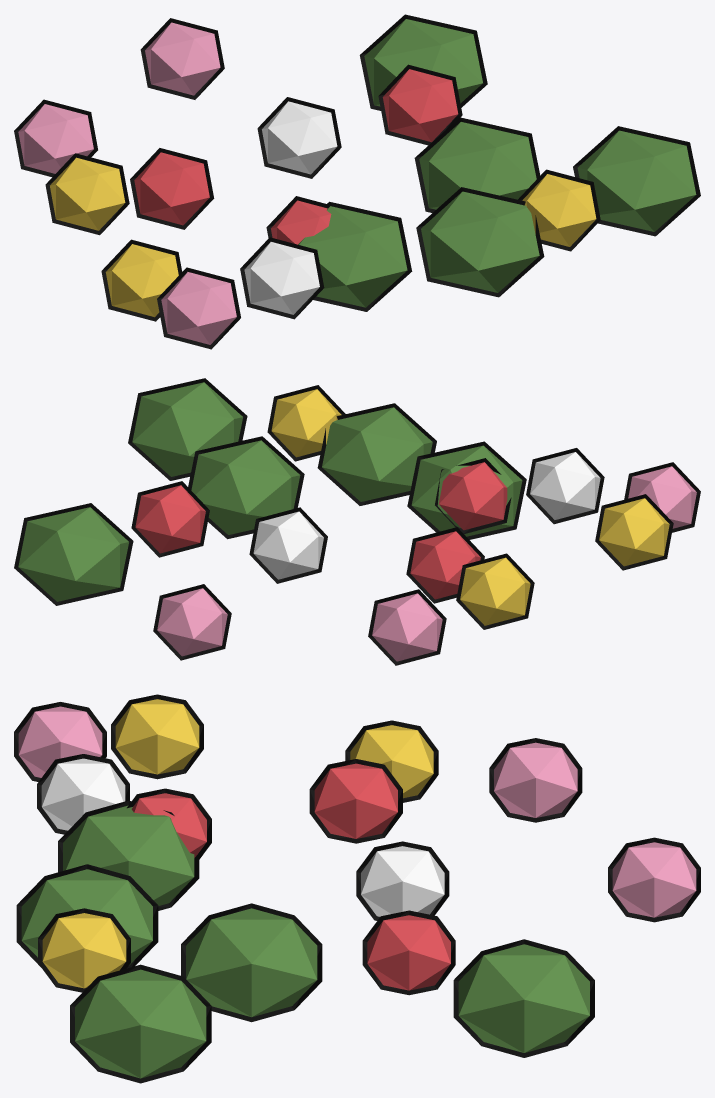
File: Kir_cicek_2.fbx
3 renders of one model, top to bottom at view 1: azimuth 30°, elevation 25°; view 2: azimuth 150°, elevation 25°; view 3: azimuth 270°, elevation 25°, orthographic. The views are drawn at different scales.
Visible parts, largest first — view 1: Kir_cicek_2; view 2: Kir_cicek_2; view 3: Kir_cicek_2.
Part boxes in pixels (x1,y1,x2,y2): Kir_cicek_2: [14, 14, 700, 349]; Kir_cicek_2: [14, 378, 700, 665]; Kir_cicek_2: [14, 694, 700, 1083].
Size of the model in its own units: 2.16 by 0.3144 by 1.96.
